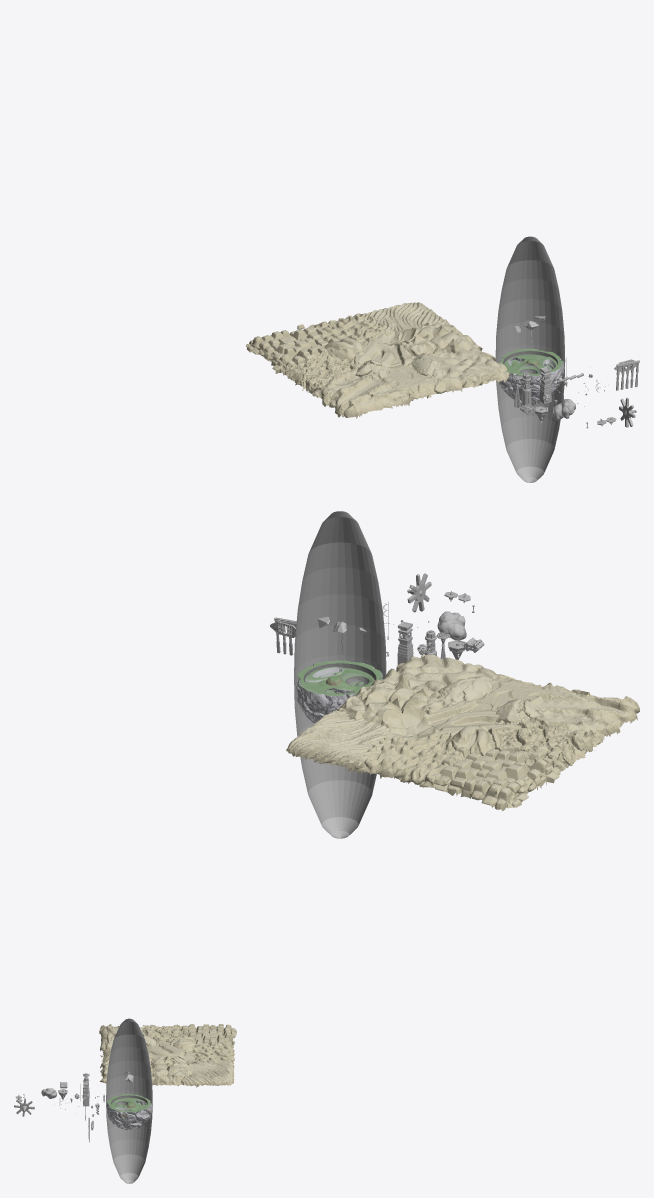
File: BstBaked.glb
The picture shows the model from 3 angles, top to bottom: view 1: azimuth 30°, elevation 25°; view 2: azimuth 150°, elevation 25°; view 3: azimuth 270°, elevation 25°; orthographic projection. The views are drawn at different scales.
Parts seen in each view (by area): view 1: BstBaked_terrain, BstBaked_S29_JumbleBoundary_01; view 2: BstBaked_terrain, BstBaked_S29_JumbleBoundary_01, BstBaked_CloudParting_02; view 3: BstBaked_terrain, BstBaked_S29_JumbleBoundary_01.
Part boxes in pixels (x1,y1,x2,y2): BstBaked_terrain: [246, 302, 564, 418]; BstBaked_S29_JumbleBoundary_01: [495, 236, 565, 482]; BstBaked_terrain: [286, 654, 639, 811]; BstBaked_S29_JumbleBoundary_01: [294, 511, 386, 838]; BstBaked_CloudParting_02: [437, 611, 466, 640]; BstBaked_terrain: [99, 1024, 236, 1130]; BstBaked_S29_JumbleBoundary_01: [106, 1018, 152, 1183].
Size of the model in its own units: 1531 by 981 by 3374.
